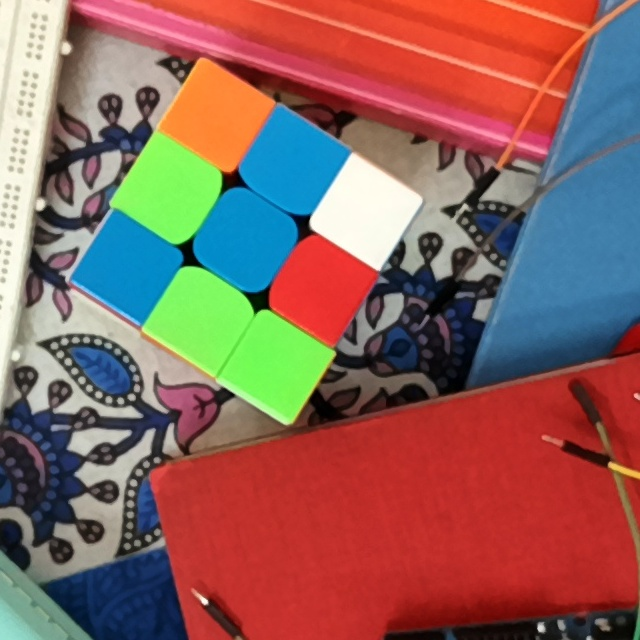tile: (263, 133, 324, 195), (139, 161, 201, 222), (215, 210, 275, 272), (335, 182, 394, 242), (245, 337, 307, 394), (189, 88, 248, 147), (292, 260, 352, 316), (98, 239, 158, 294), (173, 289, 229, 346)
